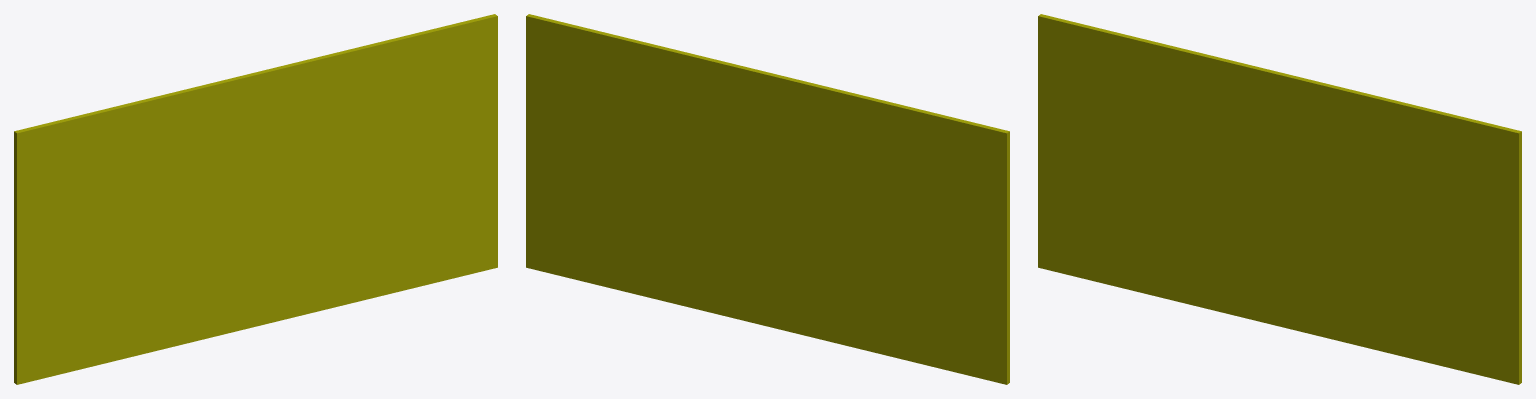
Rendered from Wall_Wheel_Task.dae.
3 views of the same model, side by side, from view 1: azimuth 30°, elevation 25°; view 2: azimuth 150°, elevation 25°; view 3: azimuth 330°, elevation 25° (orthographic).
Visible parts, largest first — view 1: WHEELTASK_003; view 2: WHEELTASK_003; view 3: WHEELTASK_003.
Part boxes in pixels (box(x1,y1,x2,y2)): WHEELTASK_003: box(14, 14, 497, 384); WHEELTASK_003: box(526, 14, 1009, 384); WHEELTASK_003: box(1038, 14, 1521, 384).
Bounding box in the file's own units: 122 × 1.27 × 60.96.
